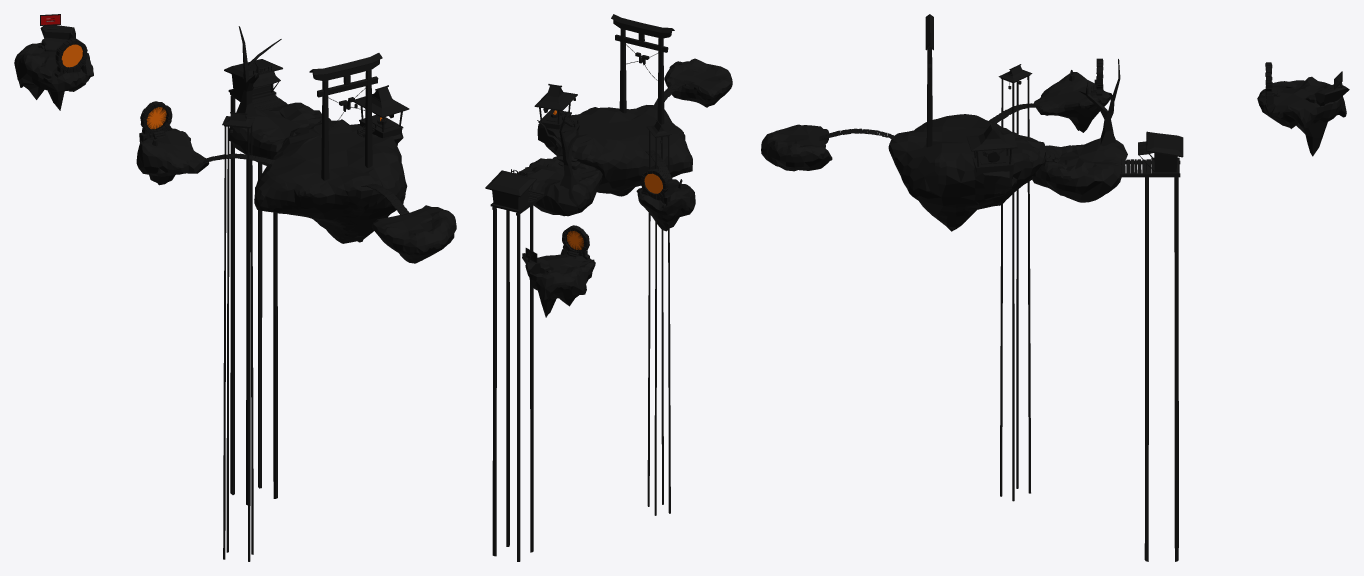
The model's file is main_lands.gltf.
3 views of the same model, side by side, from view 1: azimuth 30°, elevation 25°; view 2: azimuth 150°, elevation 25°; view 3: azimuth 270°, elevation 25° (orthographic). The views are drawn at different scales.
Parts seen in each view (by area): view 1: Lands; view 2: Lands; view 3: Lands.
Boxes of the visible parts, x1,y1,x2,y2 form: Lands: [14, 14, 456, 561]; Lands: [485, 14, 732, 561]; Lands: [761, 14, 1349, 561].
Bounding box in the file's own units: 23.67 × 55.14 × 57.47.
5 materials, 3 textured.
